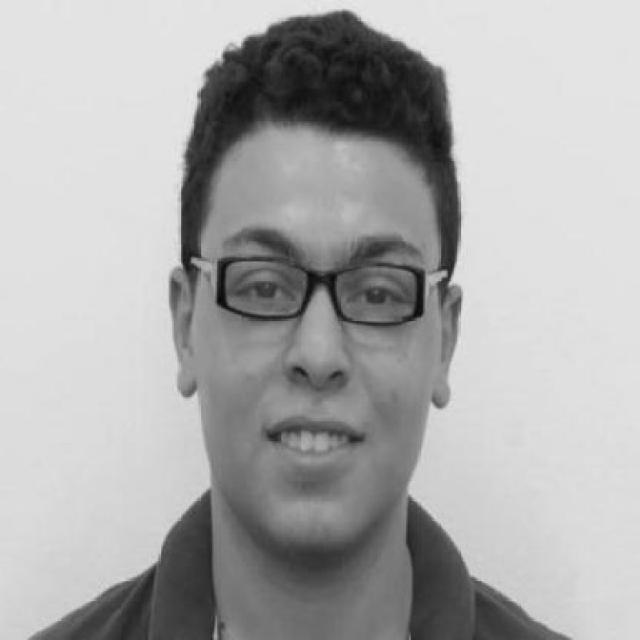Glasses: (161, 232, 464, 333)
